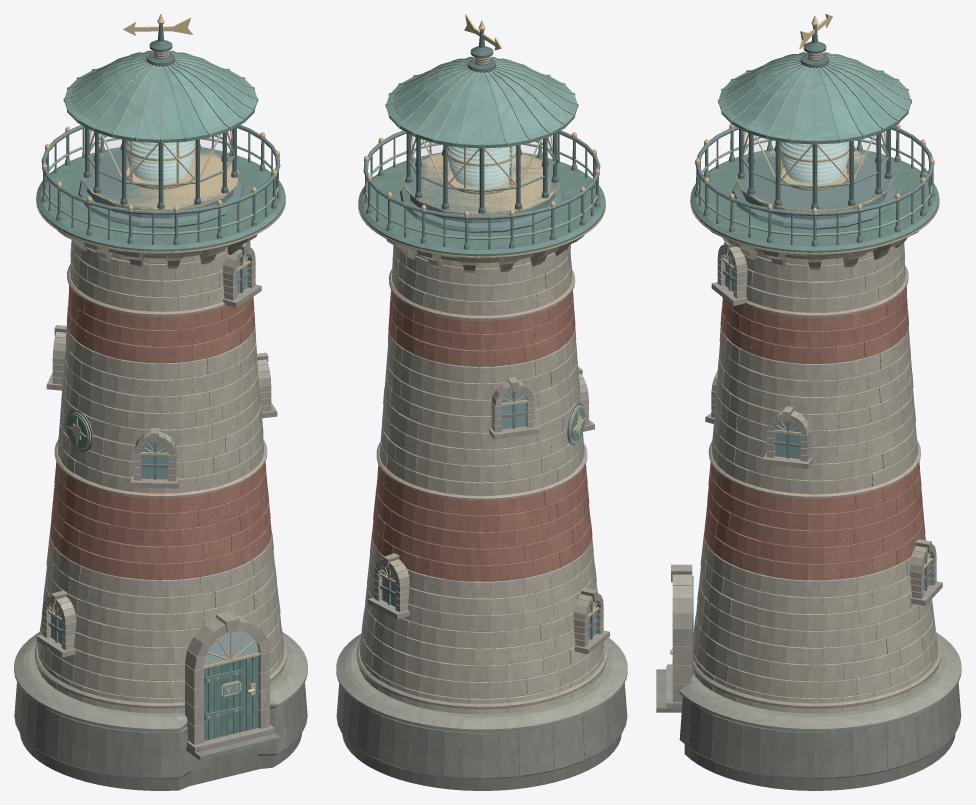
Rendered from cape_lighthouse.glb.
3 renders of one model, left to right at view 1: azimuth 30°, elevation 25°; view 2: azimuth 150°, elevation 25°; view 3: azimuth 270°, elevation 25°, orthographic.
Parts seen in each view (by area): view 1: Coursed masonry, Granite footings, Standing seam copper roof, Keeper's entrance, Gallery decking, Arched stair lights, Lantern sole, Gallery balustrade, Stone string courses, Lantern mullions, FresnelLens, Gallery corbel table (+4 smaller); view 2: Coursed masonry, Granite footings, Standing seam copper roof, Gallery decking, Arched stair lights, Lantern sole, Gallery balustrade, Stone string courses, Lantern mullions, FresnelLens, Gallery corbel table, Vent and weather vane (+2 smaller); view 3: Coursed masonry, Granite footings, Standing seam copper roof, Gallery decking, Lantern sole, Arched stair lights, Gallery balustrade, Stone string courses, Lantern mullions, Keeper's entrance, FresnelLens, Gallery corbel table (+3 smaller).
Part boxes in pixels (x1,y1,x2,y2): Coursed masonry: (37, 240, 284, 713); Granite footings: (14, 632, 307, 790); Standing seam copper roof: (63, 50, 258, 143); Keeper's entrance: (185, 611, 274, 752); Gallery decking: (36, 147, 285, 253); Arched stair lights: (36, 243, 277, 657); Lantern sole: (78, 148, 243, 228); Gallery balustrade: (41, 125, 280, 245); Stone string courses: (34, 264, 287, 708); Lantern mullions: (83, 127, 238, 210); FresnelLens: (126, 140, 195, 182); Gallery corbel table: (57, 230, 257, 268); Coursed masonry: (359, 244, 604, 714); Granite footings: (336, 633, 627, 790); Standing seam copper roof: (385, 56, 578, 148); Gallery decking: (358, 152, 605, 258); Arched stair lights: (368, 367, 609, 654); Lantern sole: (400, 153, 563, 232); Gallery balustrade: (363, 130, 600, 249); Stone string courses: (356, 269, 607, 709); Lantern mullions: (405, 133, 558, 215); FresnelLens: (447, 145, 516, 187); Gallery corbel table: (386, 235, 584, 272); Vent and weather vane: (464, 14, 502, 72); Coursed masonry: (693, 242, 938, 713); Granite footings: (679, 632, 961, 790); Standing seam copper roof: (717, 52, 912, 144); Gallery decking: (690, 148, 939, 255); Lantern sole: (732, 150, 897, 229); Arched stair lights: (705, 241, 942, 605); Gallery balustrade: (694, 124, 935, 247); Stone string courses: (693, 265, 940, 708); Lantern mullions: (737, 128, 892, 209); Keeper's entrance: (667, 564, 693, 708); FresnelLens: (780, 141, 849, 184); Gallery corbel table: (710, 230, 918, 269).
Bounding box in the file's own units: 6.94 × 18.67 × 7.22.
7 materials, 3 textured.
